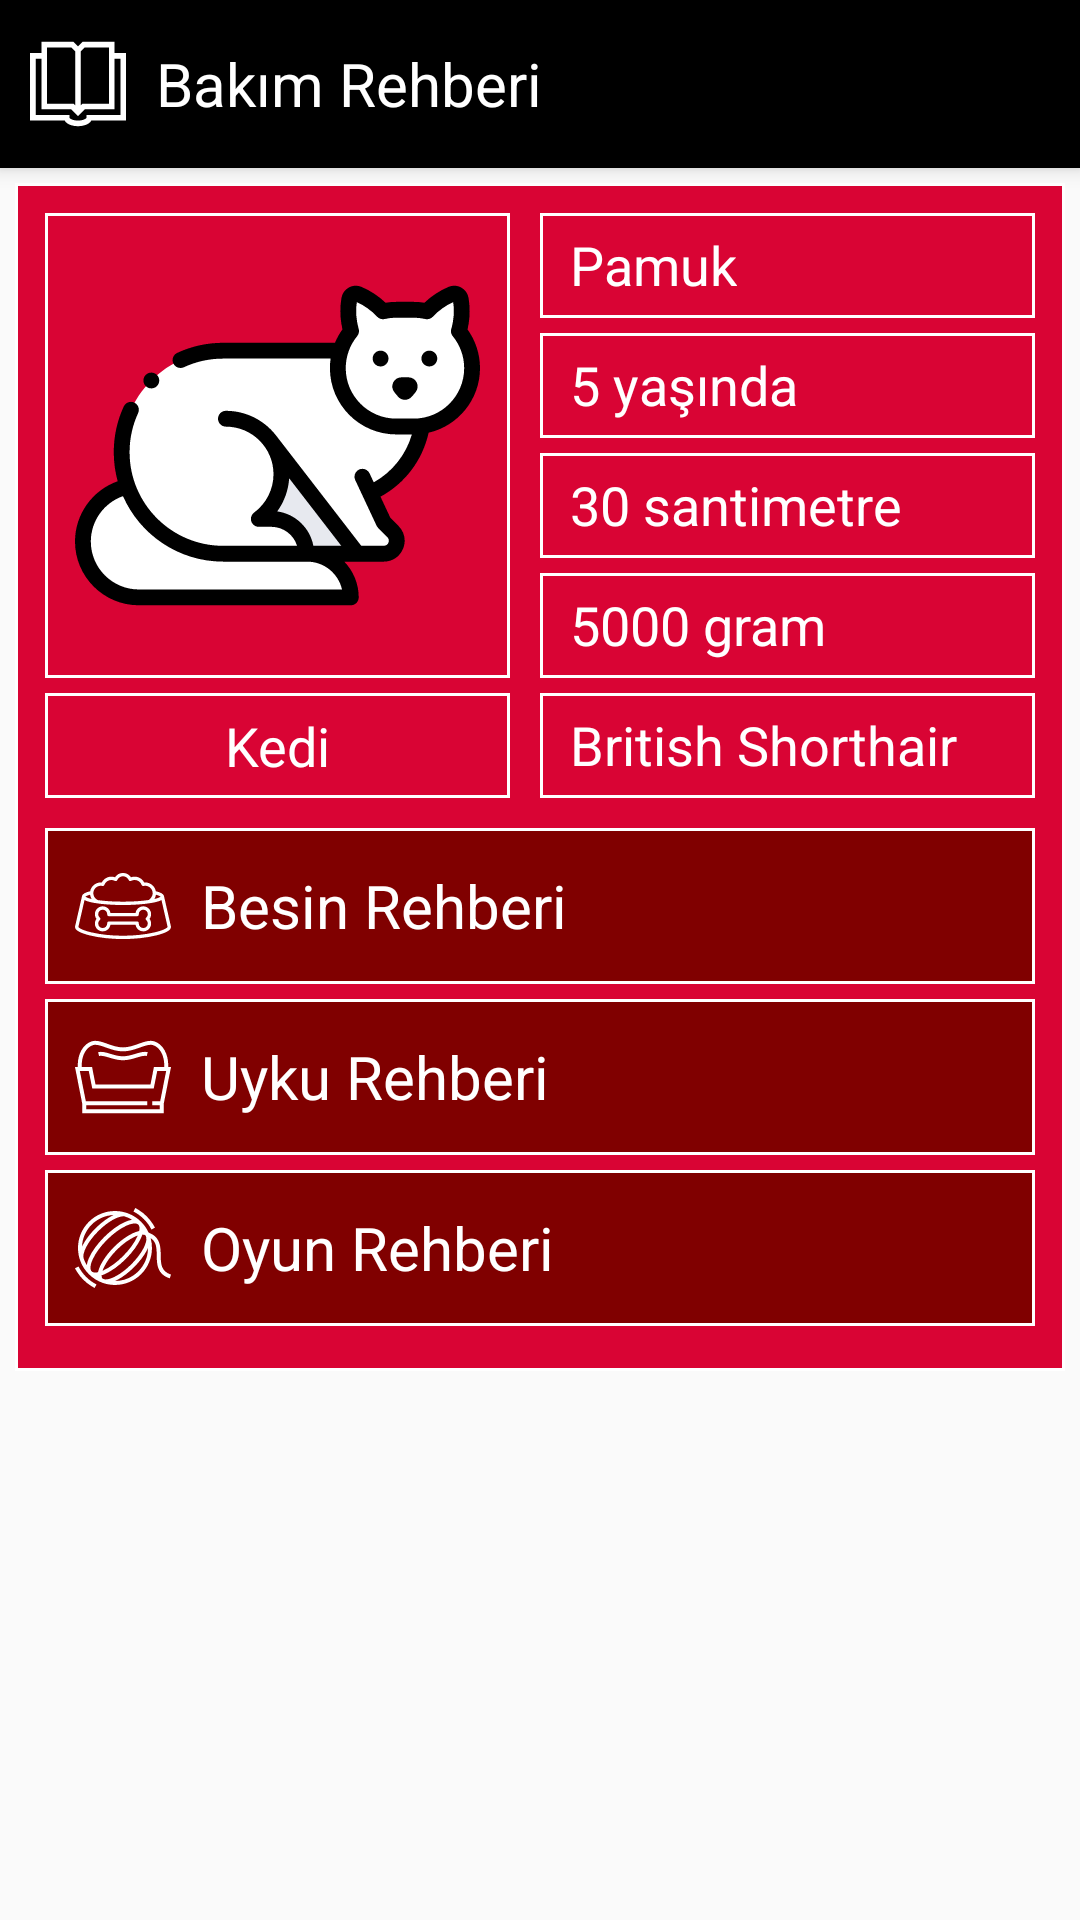

Icons on this 1080px x 1920px Android screen, each with its box as (left=x1, top=y1, right=x2, bottom=y2):
food bwhite: (left=75, top=873, right=171, bottom=939)
guide bwhite: (left=30, top=41, right=126, bottom=127)
play bwhite: (left=75, top=1208, right=171, bottom=1288)
sleep bwhite: (left=75, top=1040, right=171, bottom=1114)
